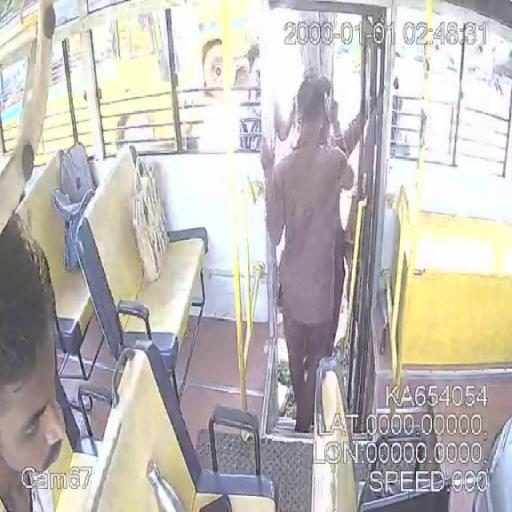persona: (259, 74, 368, 433), (0, 210, 69, 511)
